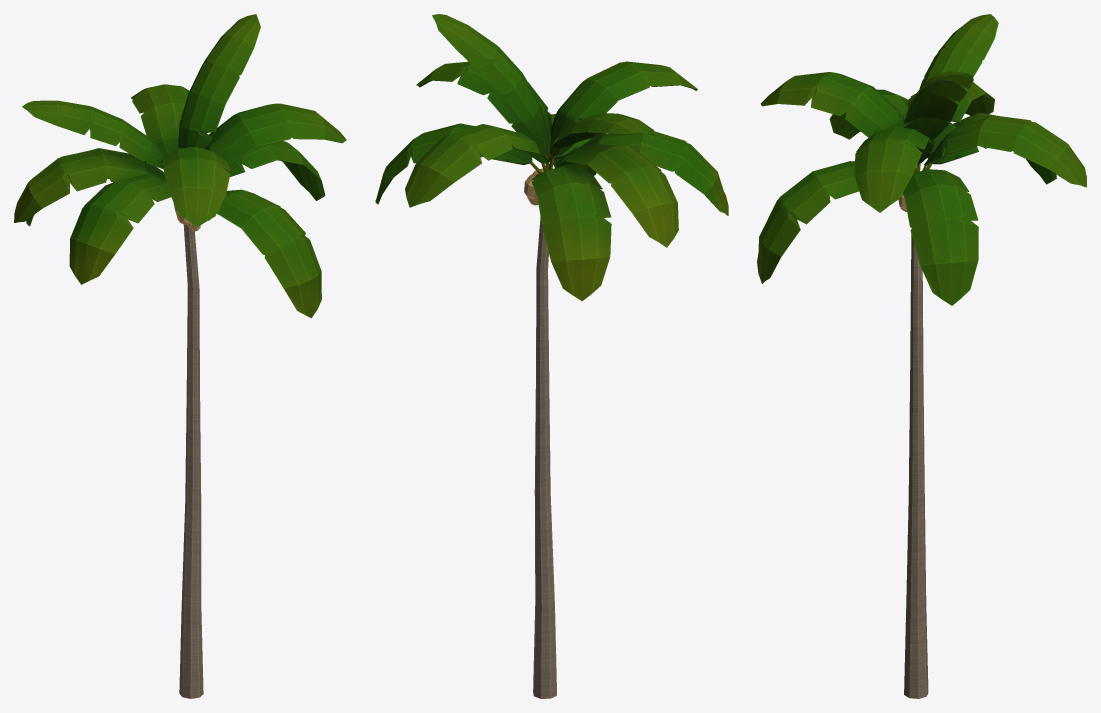
File: coconut-palm.glb
The picture shows the model from 3 angles, left to right: view 1: azimuth 30°, elevation 25°; view 2: azimuth 150°, elevation 25°; view 3: azimuth 270°, elevation 25°; orthographic projection. The views are drawn at different scales.
Visible parts, largest first — view 1: CoconutPalmTree_mesh; view 2: CoconutPalmTree_mesh; view 3: CoconutPalmTree_mesh.
Part boxes in pixels (x1=…): CoconutPalmTree_mesh: x1=14, y1=14, x2=346, y2=698; CoconutPalmTree_mesh: x1=375, y1=14, x2=728, y2=698; CoconutPalmTree_mesh: x1=757, y1=14, x2=1086, y2=698.
Bounding box in the file's own units: 12.85 × 27.08 × 12.2.
Materials: 1 (1 with a texture image).
